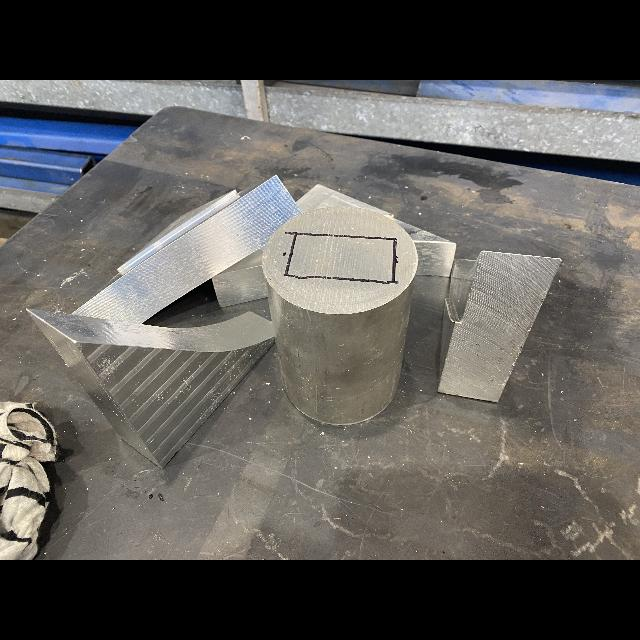Aluminium: (25, 308, 275, 469), (71, 174, 302, 324), (263, 207, 417, 426), (437, 251, 562, 402), (295, 184, 457, 277), (211, 245, 267, 309)
